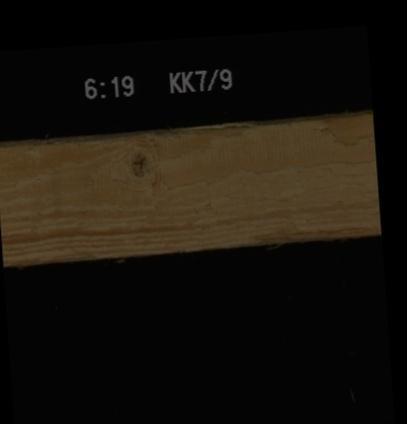sound_knot: (118, 140, 157, 188)
wave: (245, 222, 379, 240)
